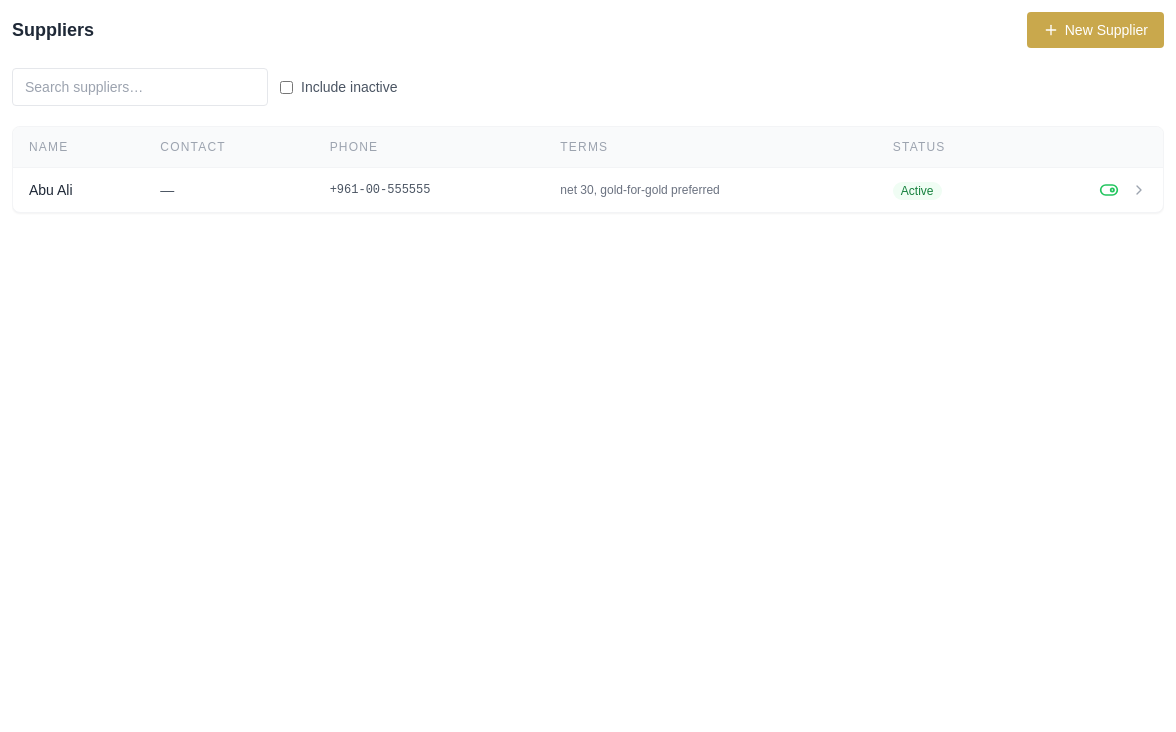
Test: suppliers list labels and i18n (NEX-64) › every new-supplier field is reachable by its label, and the label's control is the input
This screenshot has width=1176, height=732.
What coordinates should you click on to do the following:
click the button "New Supplier"
I would click on:
 (1095, 30)
Its box is left=1027, top=12, right=1164, bottom=48.
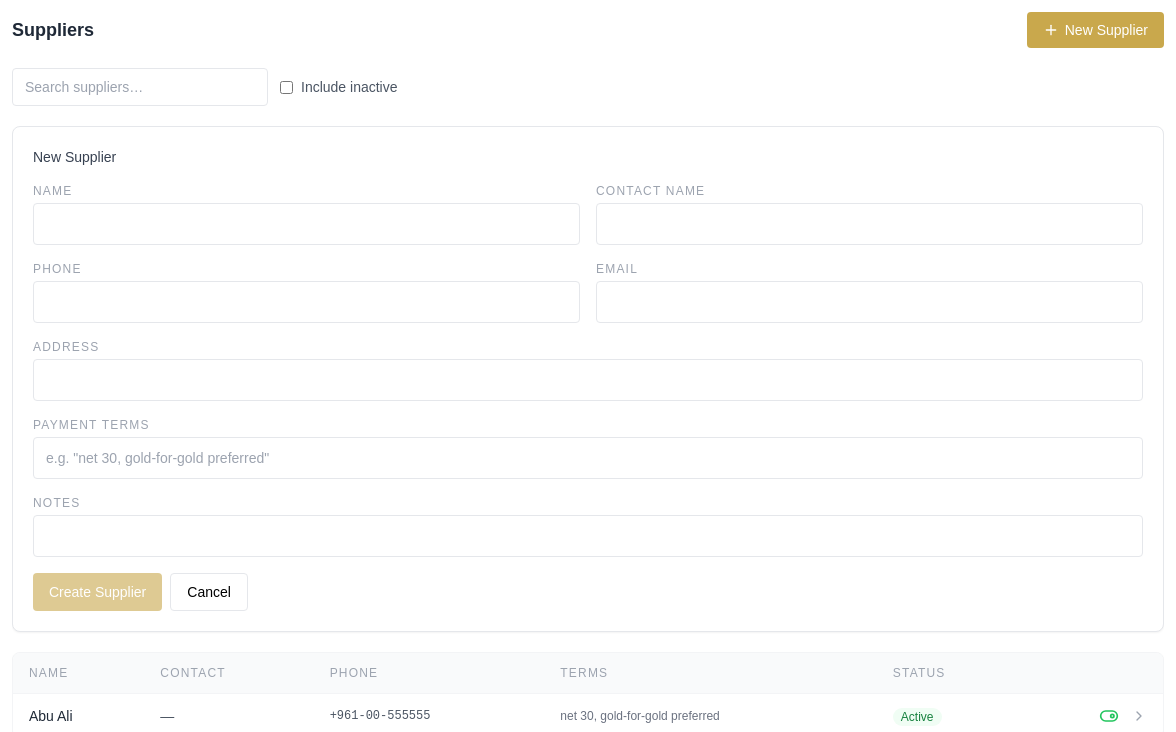
Check: the label labelled "Name" is shown, box left=33, top=183, right=580, bottom=245
Check: the label labelled "Contact name" is shown, box left=596, top=183, right=1143, bottom=245
Check: the label labelled "Phone" is shown, box left=33, top=261, right=580, bottom=323
